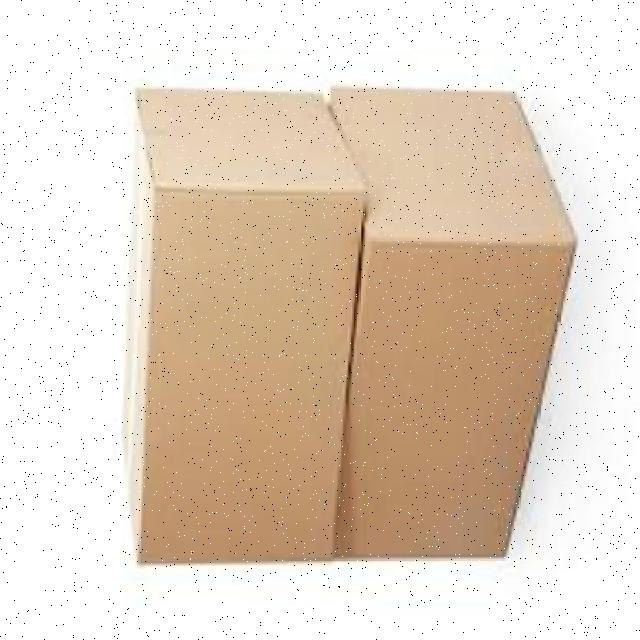normal: (329, 85, 580, 568), (130, 86, 358, 569)
